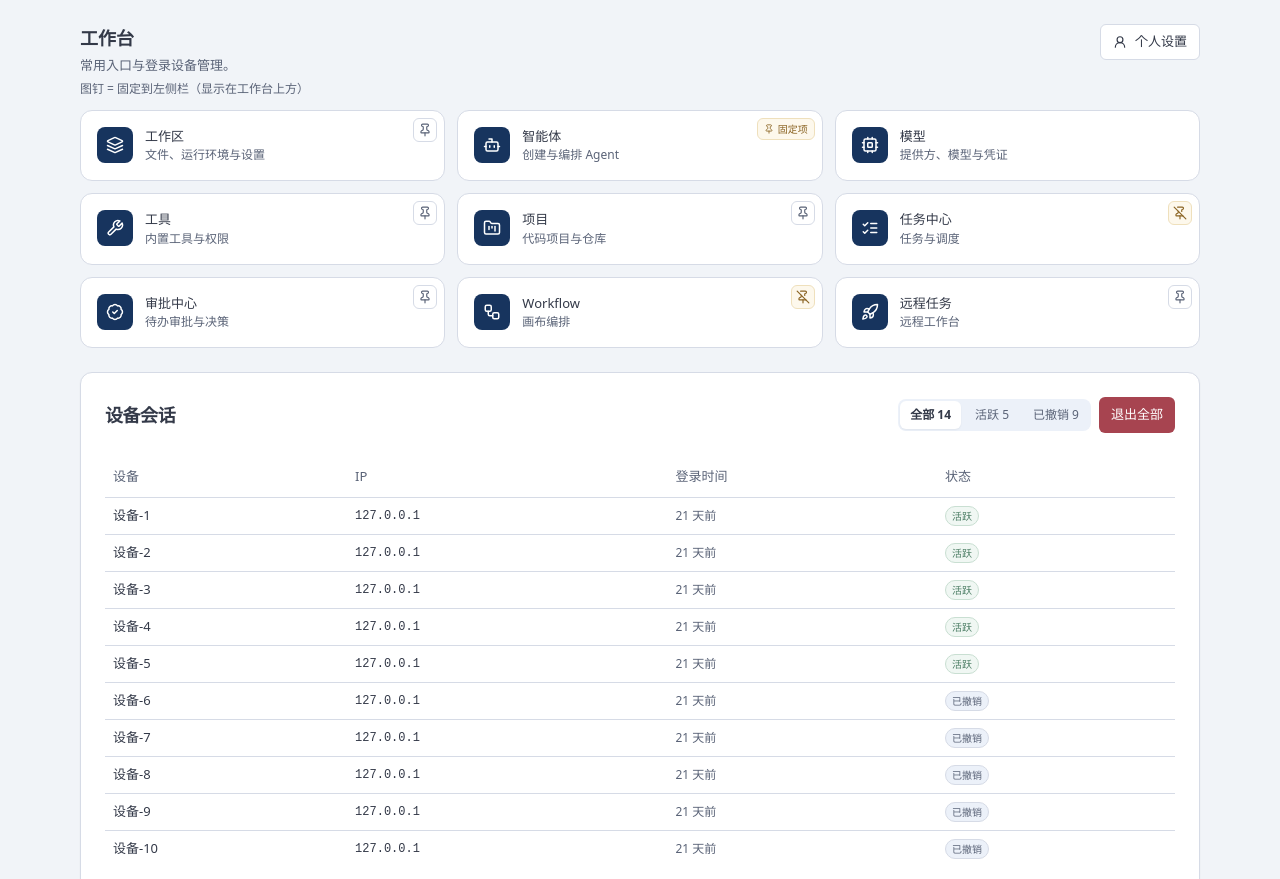
Scenario: User（工作台） › 状态分段：文案含全量计数；点击活跃只看活跃会话
The image size is (1280, 879).
Expected: the text "设备-1" is shown, [105,497,347,534]
Expected: the tab with test id "devices-status-all" reads "全部 14", [900,401,961,429]
// 筛选活跃 → 已撤销行退场。
Click the tab with test id "devices-status-active" at (992, 415), box [965,401,1019,429]
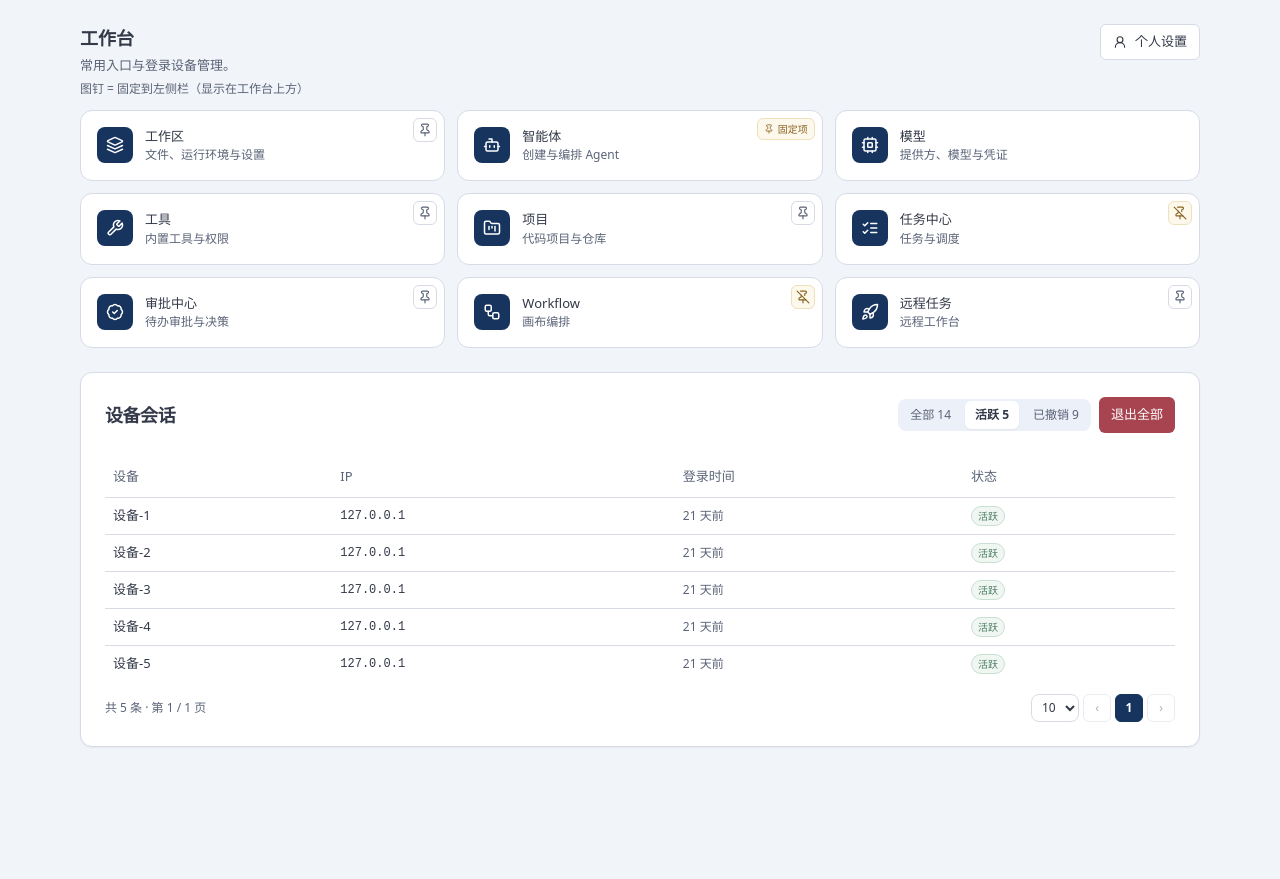
Expected: the text "设备-5" is shown, [105,645,332,682]
Expected: the text with test id "devices-page-summary" reads "共 5 条 · 第 1 / 1 页", [105,698,206,716]
